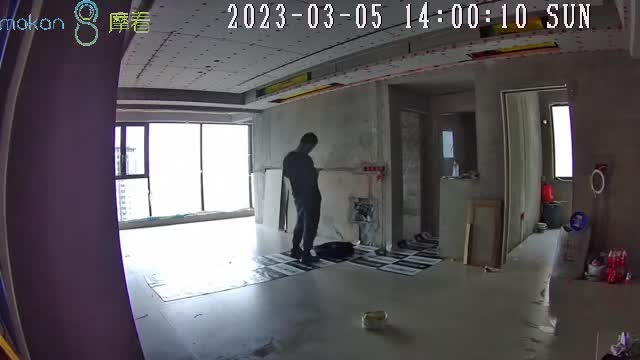people: (282, 133, 324, 262)
window: (113, 121, 254, 218)
